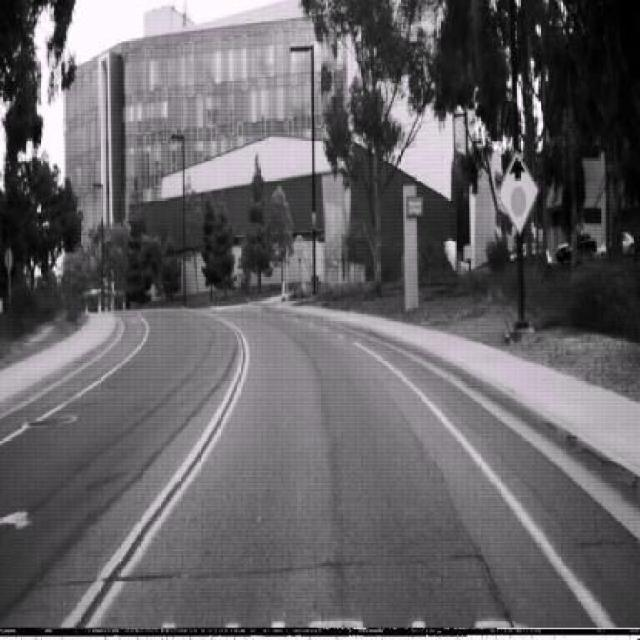stop: (294, 234, 305, 258)
stopAhead: (497, 148, 538, 235)
